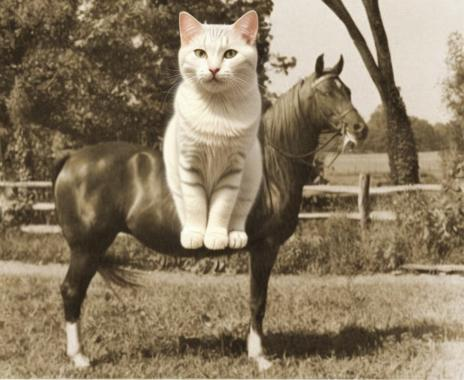cat: (161, 11, 264, 250)
horse: (51, 54, 369, 371)
